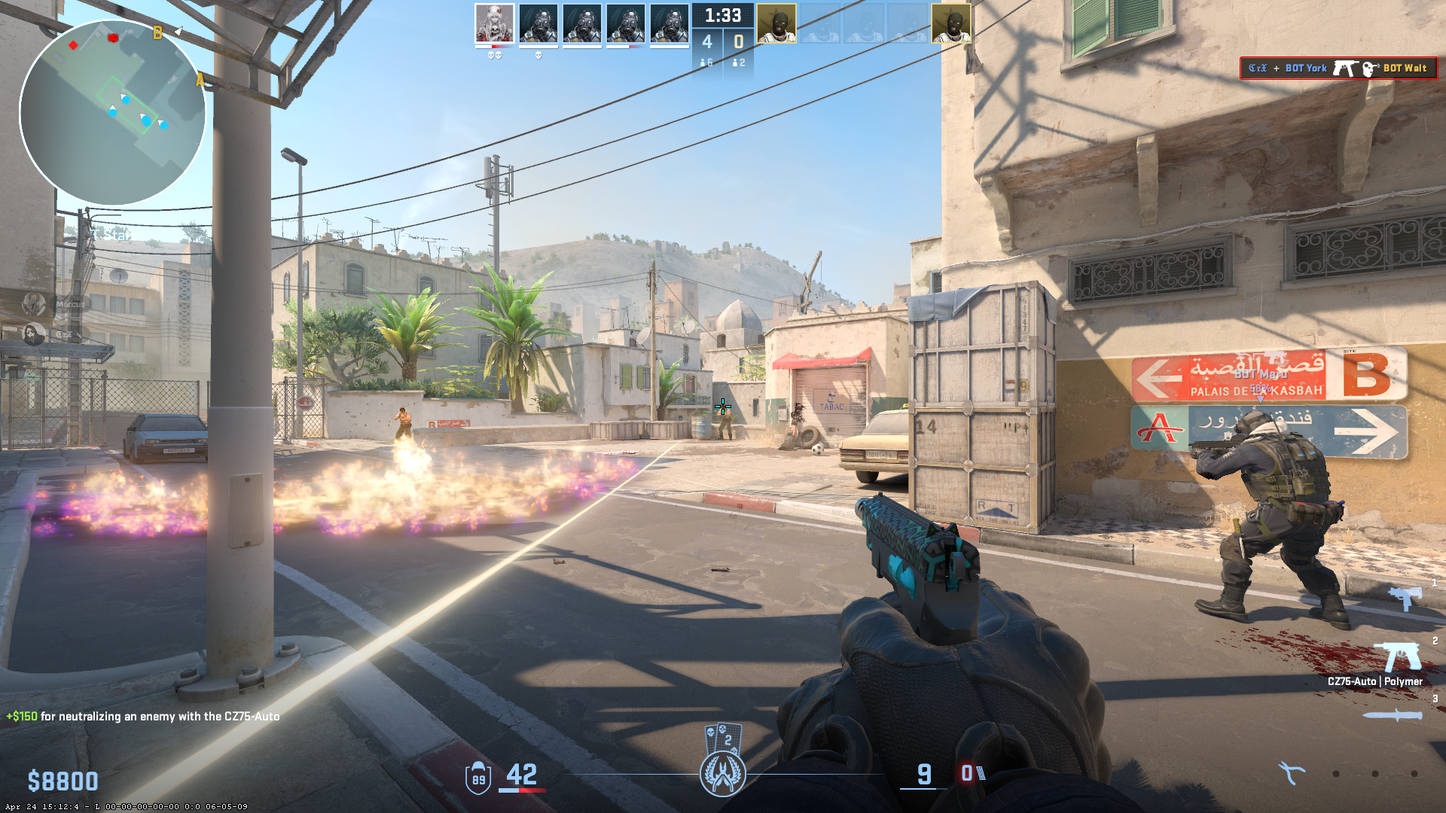CT: (1199, 410, 1346, 625)
T: (395, 407, 411, 444), (718, 404, 731, 440)
